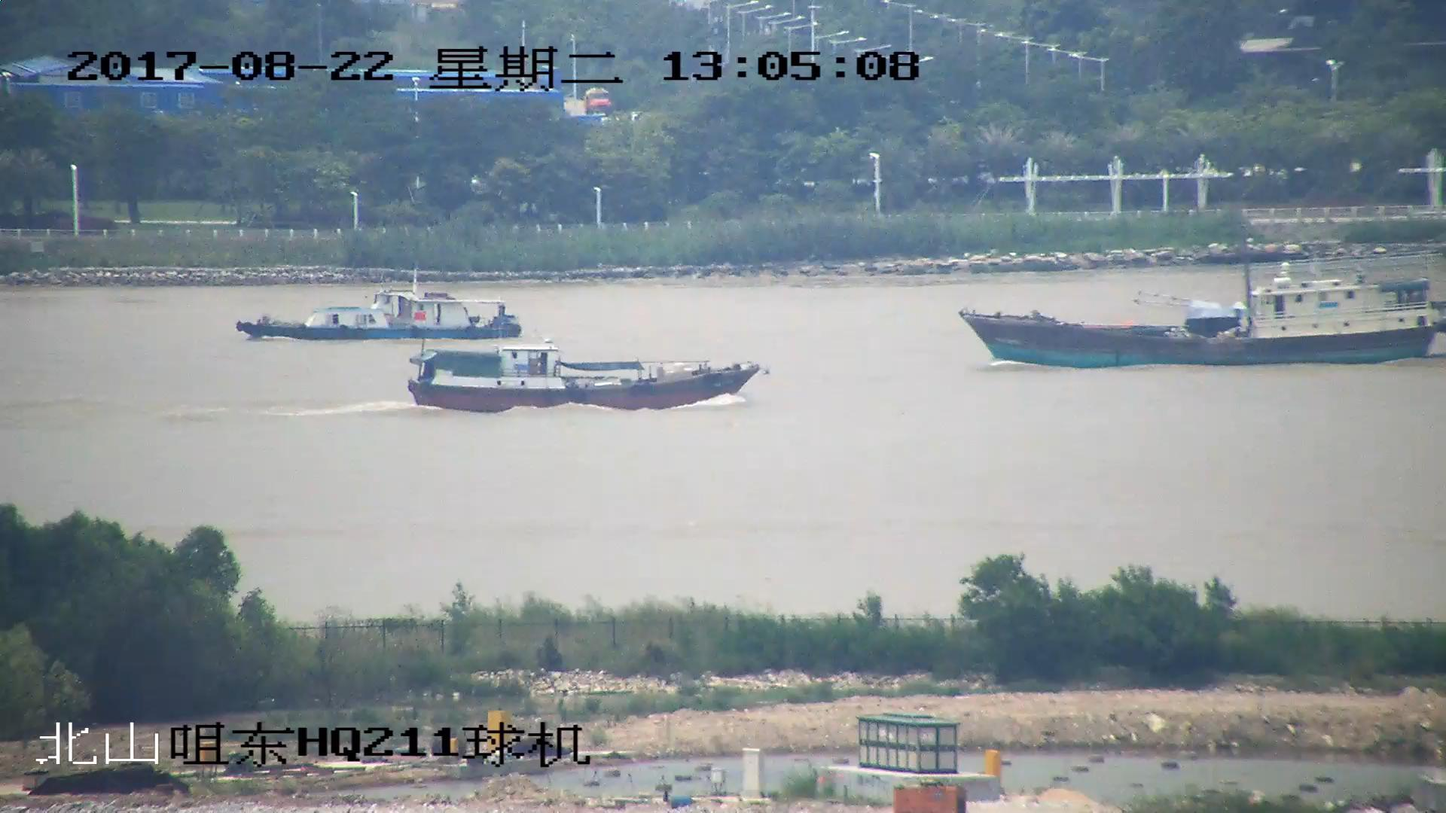fishing boat: (959, 243, 1445, 367), (404, 312, 767, 412), (236, 269, 521, 341)
